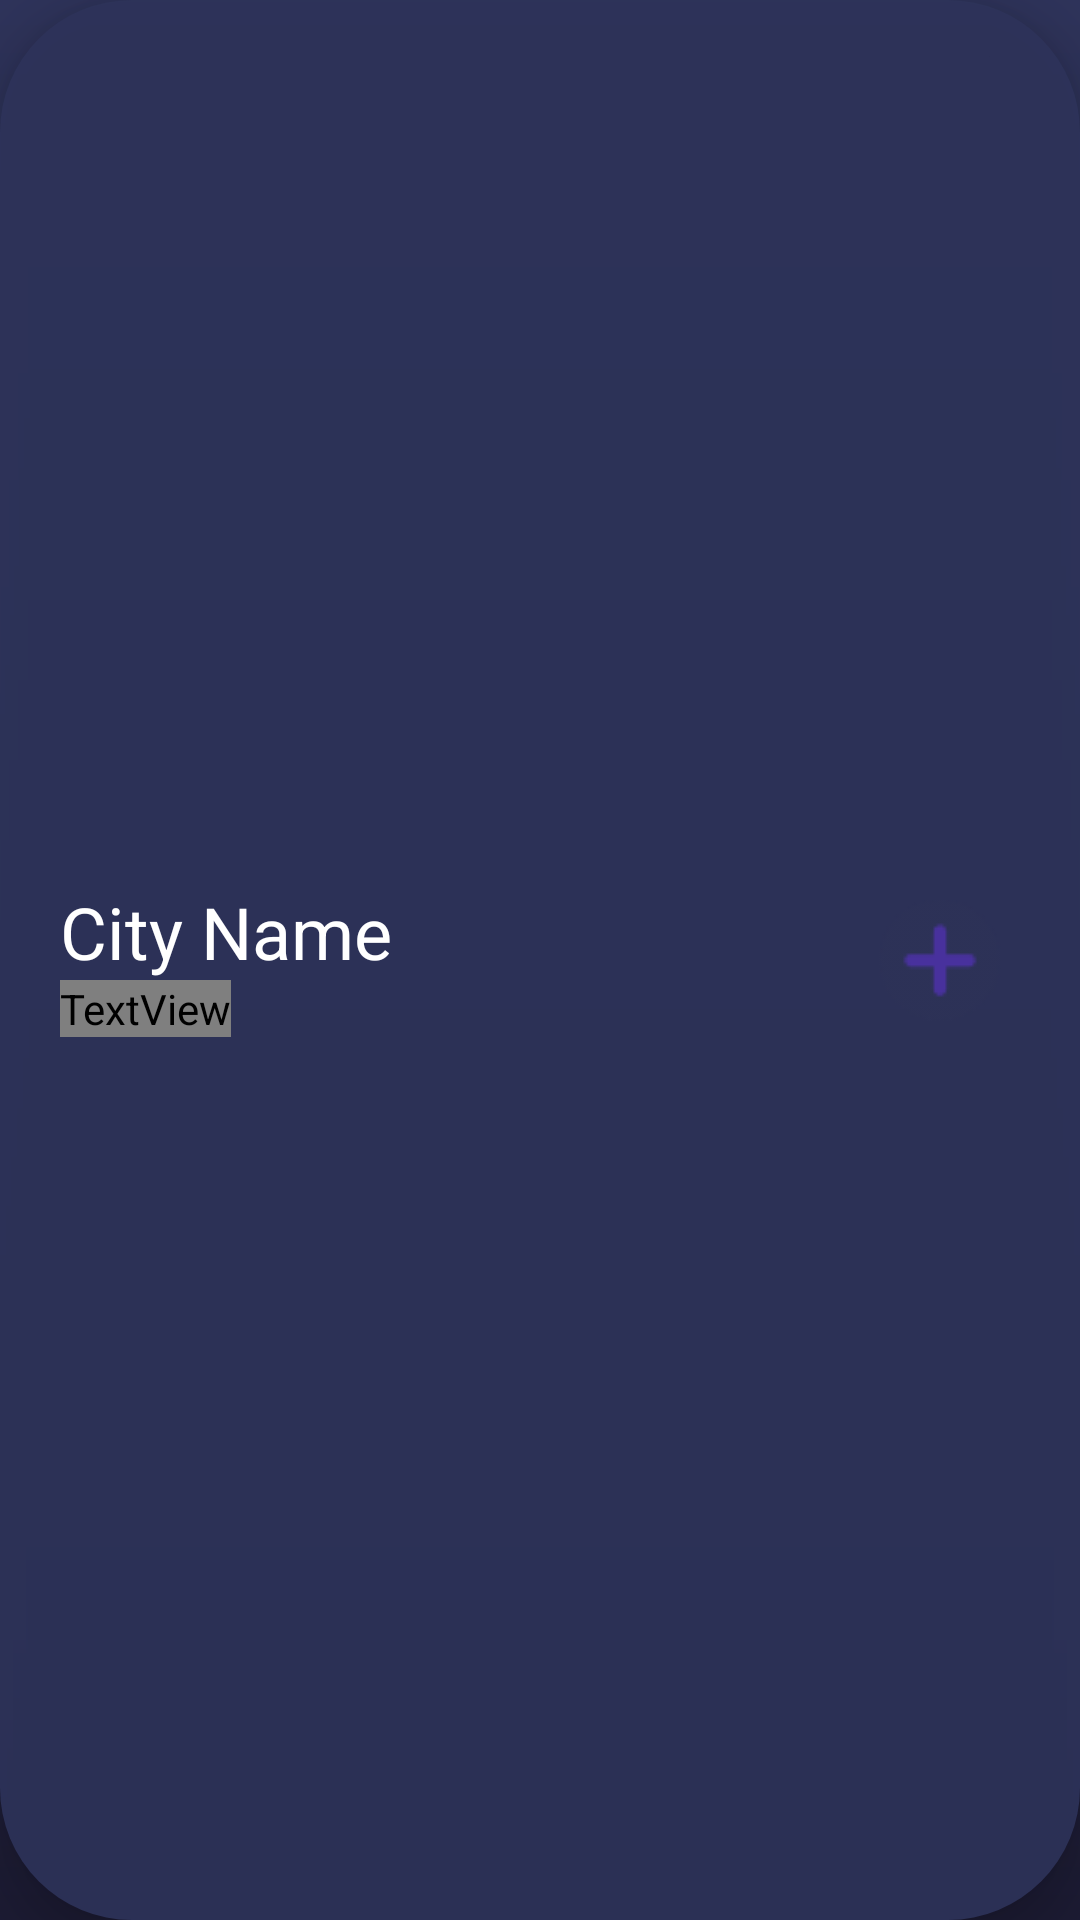

Icons on this 1080x1920 Android screen, each with its box as [x1,y1,x2,y2]:
add: [904,924,976,996]
